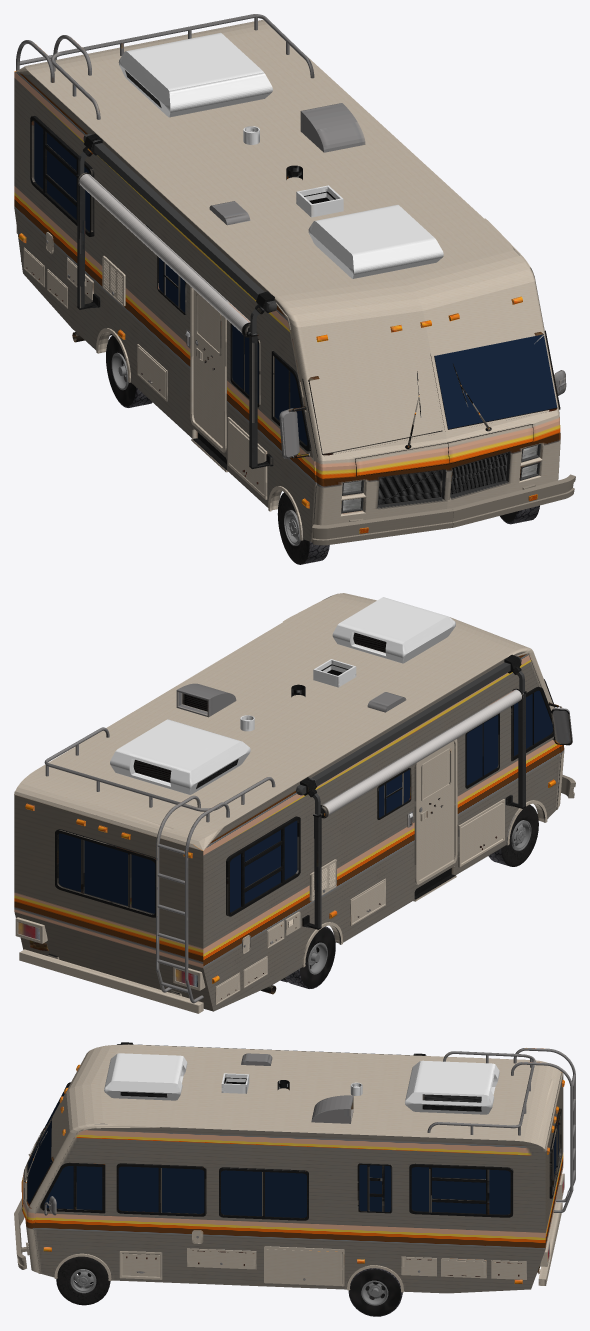
3 views of the same model, one above another, from view 1: azimuth 30°, elevation 25°; view 2: azimuth 150°, elevation 25°; view 3: azimuth 270°, elevation 25° (orthographic). The views are drawn at different scales.
Parts seen in each view (by area): view 1: Plane.007_PlanePanel_0, Plane.007_TexPanel_0, Plane.007_whiteplastic_0, Plane.007_winglass_0, Plane.007_RimMetal_0, Plane.007_BlackMetal_0, Plane.007_TexStripPanel-R_0, Cube.005_plane-metal_0, Plane.007_TexStrippanel-F_0, Plane.007_Aluminium_0, Plane.007_grill_0, Plane.007_GUNMETAL_0 (+3 smaller); view 2: Plane.007_PlanePanel_0, Plane.007_TexPanel_0, Plane.007_texpanel-Back_0, Plane.007_whiteplastic_0, Plane.007_winglass_0, Plane.007_TexStripPanel-R_0, Plane.007_BlackMetal_0, Plane.007_RimMetal_0, Plane.007_TexStripPanel-B_0, Plane.007_cloth_0, Plane.007_Aluminium_0, Plane.007_GUNMETAL_0 (+3 smaller); view 3: Plane.007_PlanePanel_0, Plane.007_TexPanel_0, Plane.007_winglass_0, Plane.007_TexStripPanel-L_0, Plane.007_whiteplastic_0, Plane.007_BlackMetal_0, Plane.007_RimMetal_0, Cylinder.005_wheel_front_left, Cylinder.005_wheel_back_left, Plane.007_ventgrill_0, Plane.007_texpanel-Back_0, Cube.005_plane-metal_0 (+1 smaller).
Part boxes in pixels (<box>): Plane.007_PlanePanel_0: <box>14,20,560,542</box>; Plane.007_TexPanel_0: <box>14,73,314,541</box>; Plane.007_whiteplastic_0: <box>118,32,443,337</box>; Plane.007_winglass_0: <box>34,121,557,445</box>; Plane.007_RimMetal_0: <box>16,14,566,458</box>; Plane.007_BlackMetal_0: <box>30,116,560,470</box>; Plane.007_TexStripPanel-R_0: <box>14,72,323,487</box>; Cube.005_plane-metal_0: <box>312,474,575,545</box>; Plane.007_TexStrippanel-F_0: <box>322,418,560,487</box>; Plane.007_Aluminium_0: <box>78,134,540,513</box>; Plane.007_grill_0: <box>378,452,507,504</box>; Plane.007_GUNMETAL_0: <box>77,178,511,509</box>; Plane.007_PlanePanel_0: <box>14,593,564,1013</box>; Plane.007_TexPanel_0: <box>203,651,560,1011</box>; Plane.007_texpanel-Back_0: <box>14,795,213,1011</box>; Plane.007_whiteplastic_0: <box>110,597,455,817</box>; Plane.007_winglass_0: <box>59,690,552,913</box>; Plane.007_TexStripPanel-R_0: <box>203,654,564,967</box>; Plane.007_BlackMetal_0: <box>19,654,572,994</box>; Plane.007_RimMetal_0: <box>44,683,572,1003</box>; Plane.007_TexStripPanel-B_0: <box>14,892,203,967</box>; Plane.007_cloth_0: <box>322,689,521,814</box>; Plane.007_Aluminium_0: <box>296,656,524,814</box>; Plane.007_GUNMETAL_0: <box>314,693,525,928</box>; Plane.007_PlanePanel_0: <box>23,1044,564,1292</box>; Plane.007_TexPanel_0: <box>34,1127,545,1293</box>; Plane.007_winglass_0: <box>27,1085,558,1217</box>; Plane.007_TexStripPanel-L_0: <box>26,1130,545,1248</box>; Plane.007_whiteplastic_0: <box>104,1053,499,1114</box>; Plane.007_BlackMetal_0: <box>26,1042,561,1296</box>; Plane.007_RimMetal_0: <box>44,1048,575,1280</box>; Cylinder.005_wheel_front_left: <box>56,1256,110,1305</box>; Cylinder.005_wheel_back_left: <box>348,1268,402,1316</box>; Plane.007_ventgrill_0: <box>120,1092,481,1111</box>; Plane.007_texpanel-Back_0: <box>545,1074,563,1231</box>; Cube.005_plane-metal_0: <box>14,1198,29,1269</box>.
Size of the model in its own units: 3.97 by 3.46 by 8.67.
35 materials, 32 textured.
